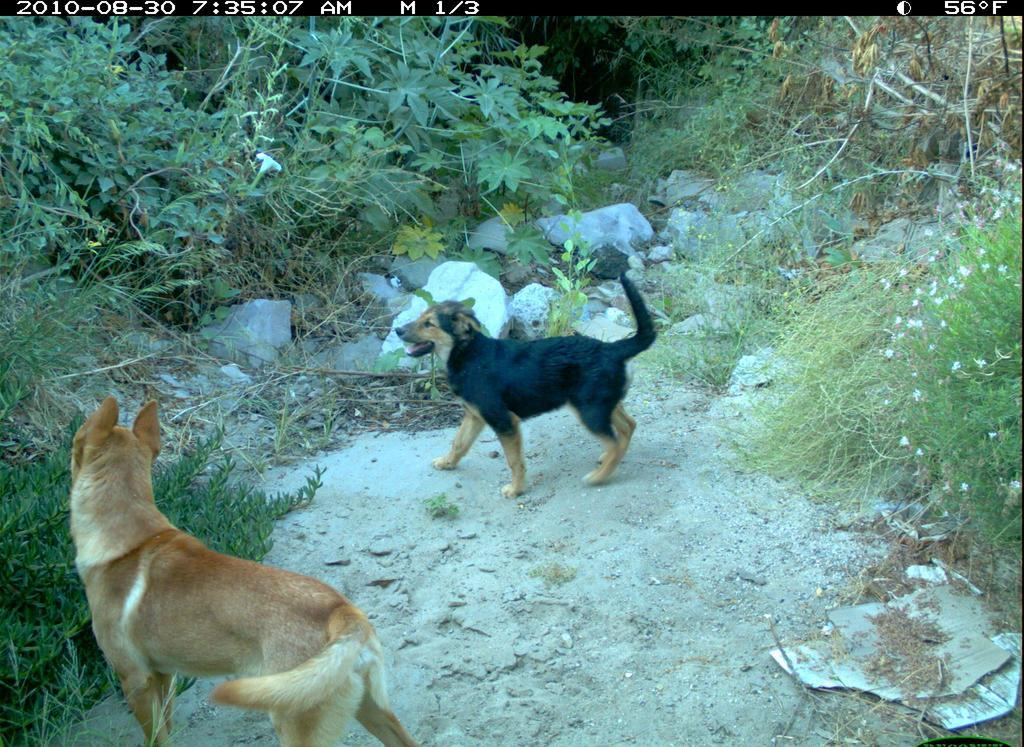dog: (63, 392, 428, 747), (391, 250, 665, 509)
